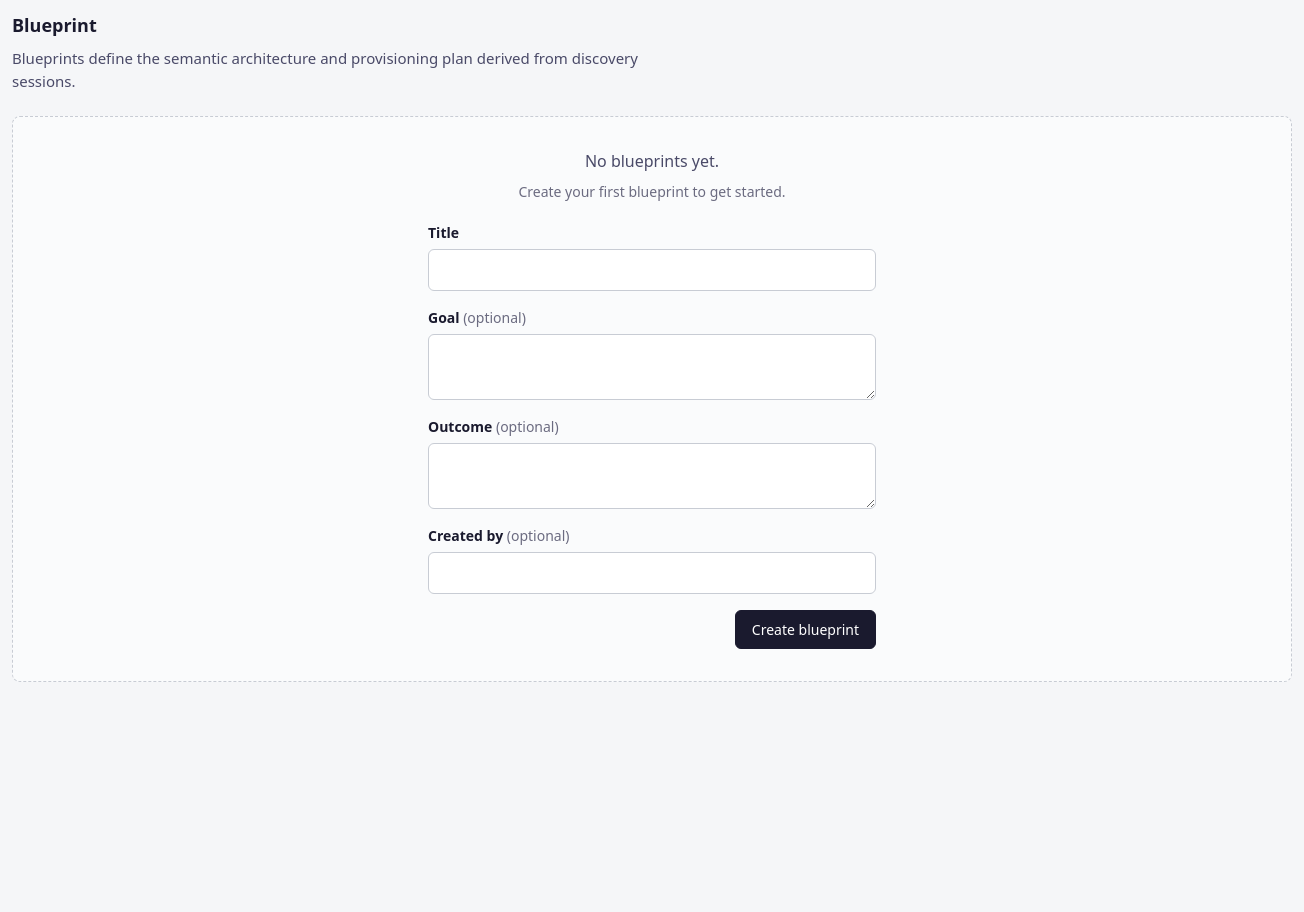
BlueprintPage › creates blueprint from empty state and refreshes list
This screenshot has width=1304, height=912.
Expected: the form labelled "Create blueprint" is shown, top-left (428, 222), bottom-right (876, 649)
Type "New Blueprint" into the field labelled "Title". click: (652, 270)
box: top-left (428, 249), bottom-right (876, 291)
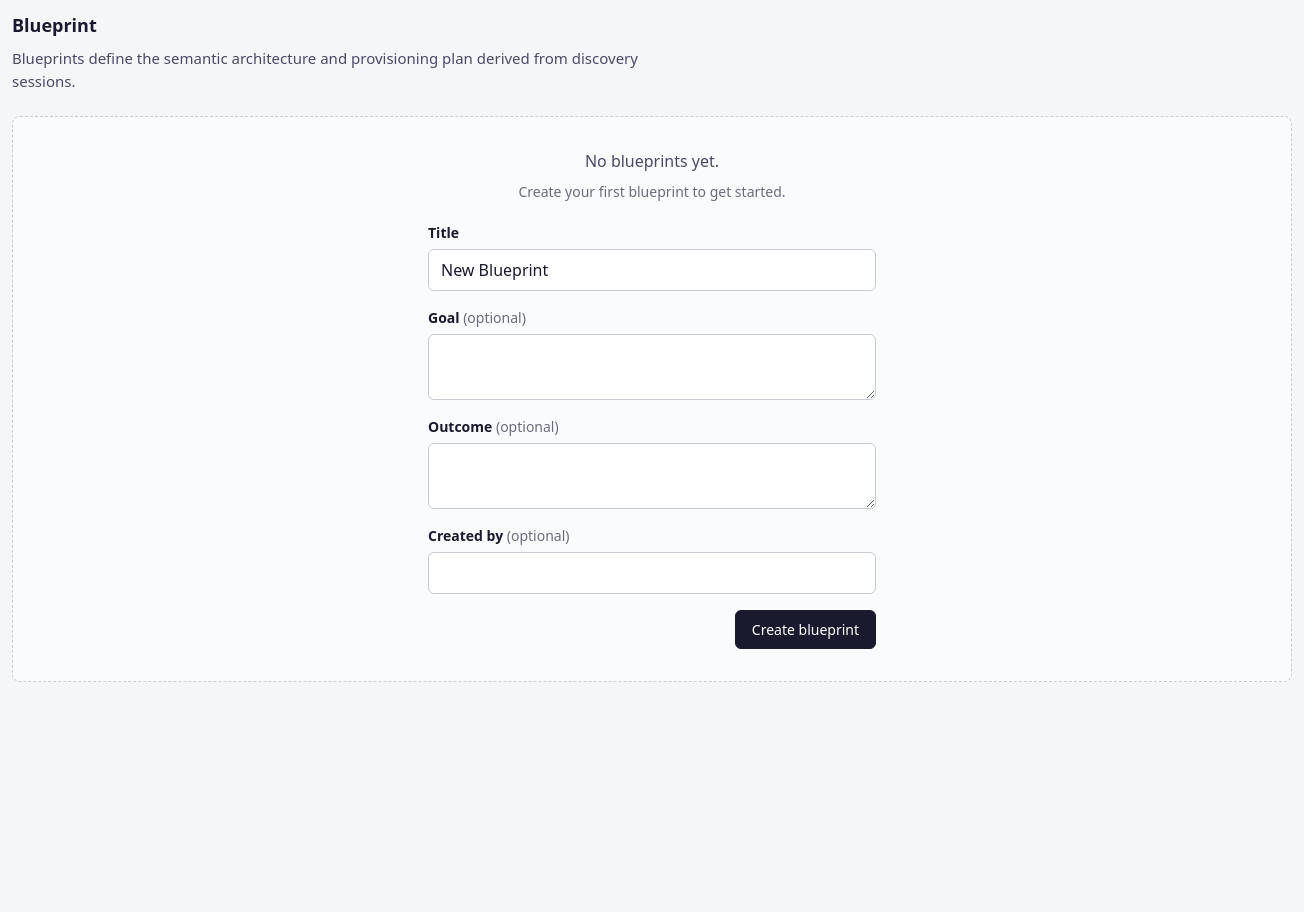
Click the button "Create blueprint". click: (805, 630)
box: top-left (735, 610), bottom-right (876, 649)
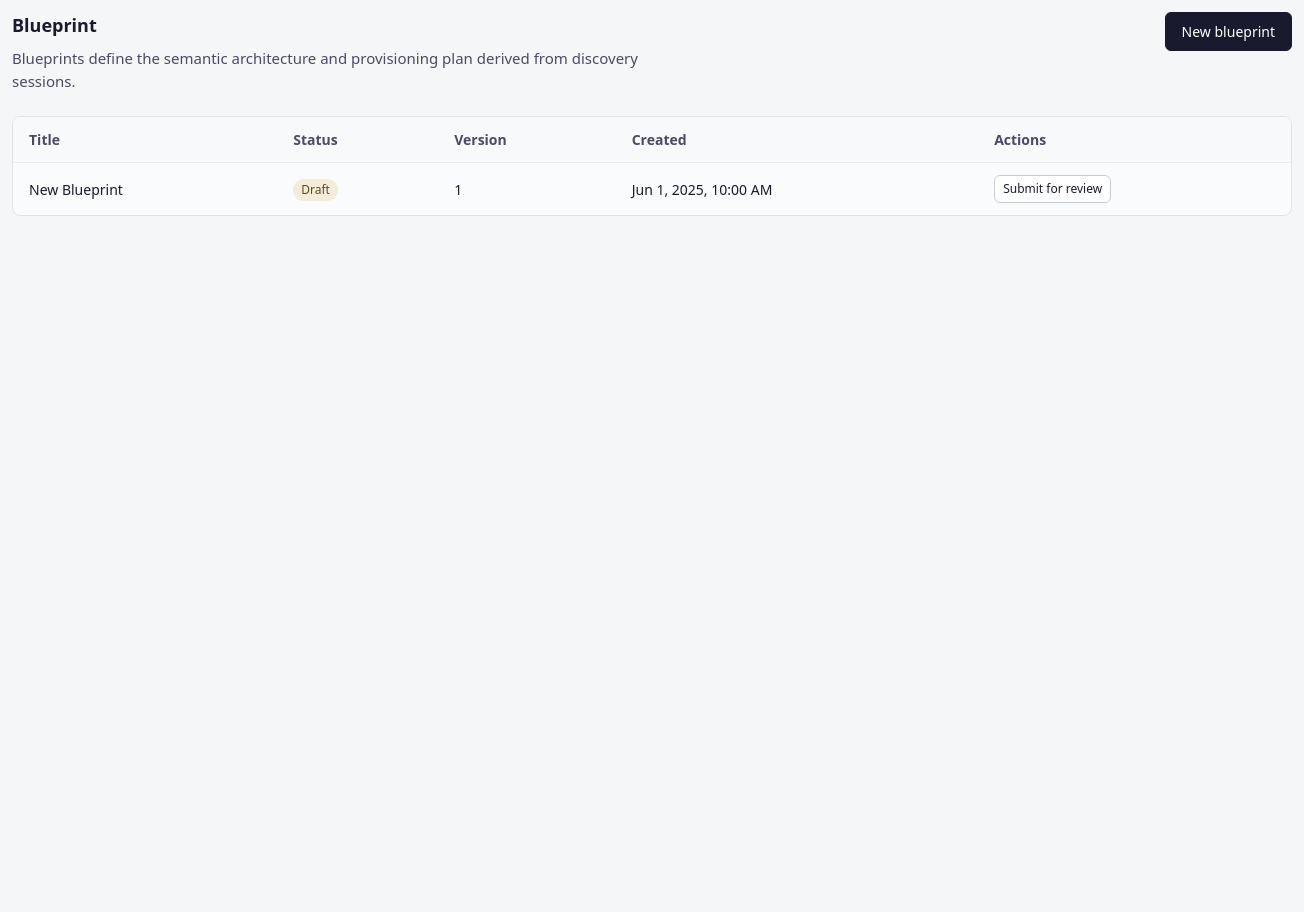
Result: the text "New Blueprint" is shown at top-left (13, 162), bottom-right (277, 215)
